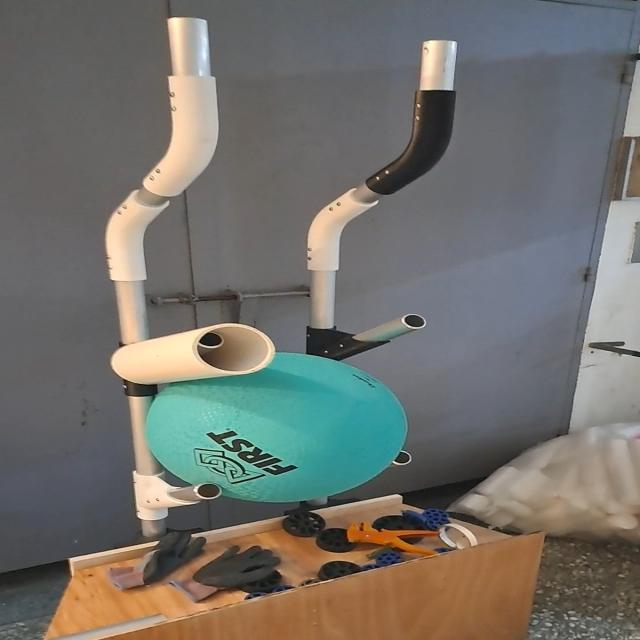ALGAE: (149, 348, 416, 506)
CORAL: (111, 321, 278, 387)
